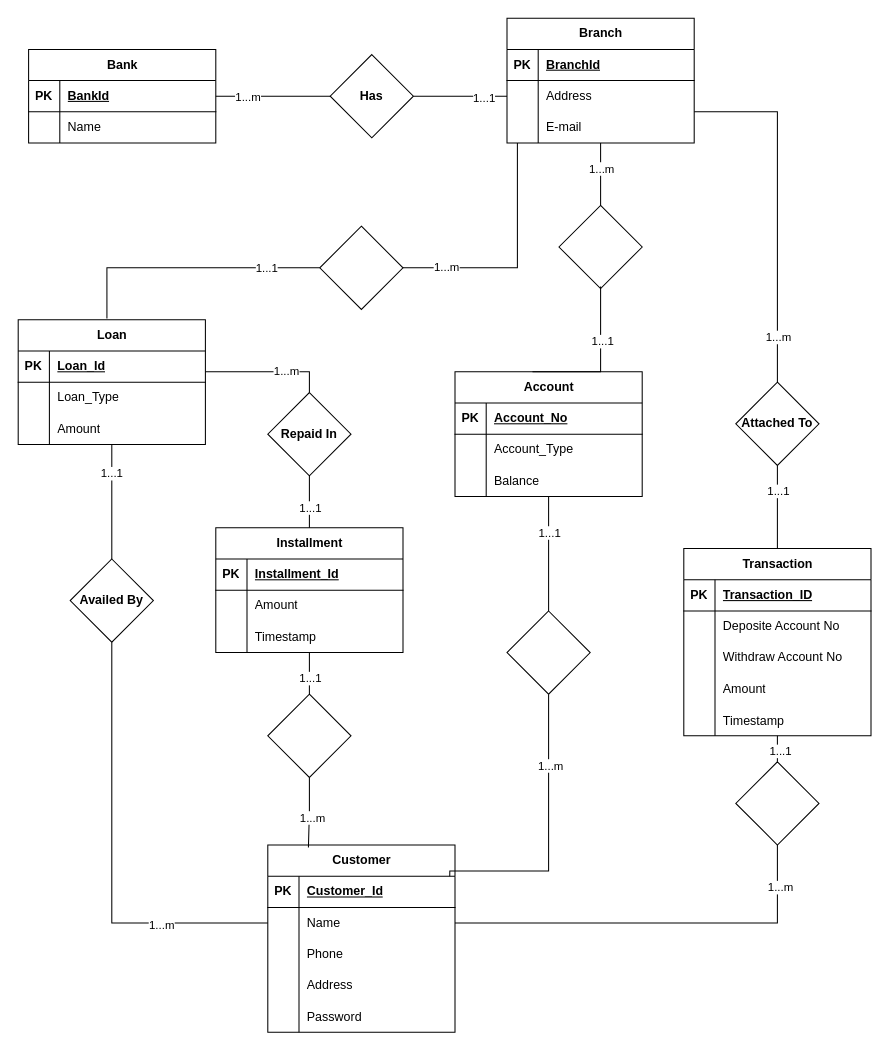
The diagram is 889 pixels wide and 1050 high, and some of its shapes have lost their labels. The box of each missing label's shape, as (x1, y1, x2, y2) in pixels:
Hold By: (506, 610, 590, 694)
Made By: (735, 761, 819, 845)
Maintain: (558, 204, 642, 289)
Offers: (319, 225, 403, 309)
Repaid By: (267, 693, 351, 777)
